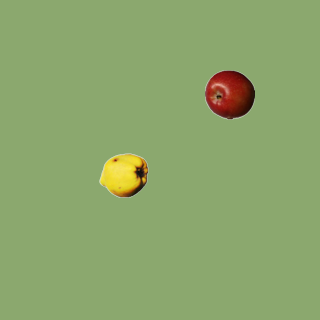Apple Braeburn: (204, 69, 254, 119)
Quince: (98, 150, 148, 200)
